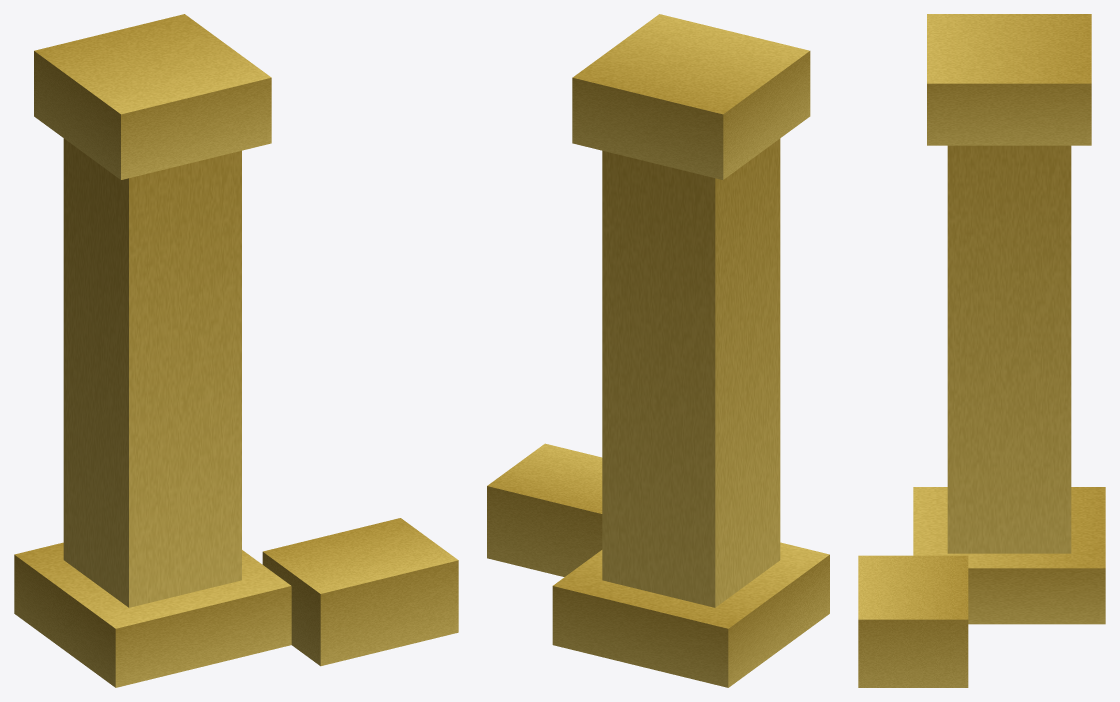
File: ruin_pillar.gltf
The picture shows the model from 3 angles, left to right: view 1: azimuth 30°, elevation 25°; view 2: azimuth 150°, elevation 25°; view 3: azimuth 270°, elevation 25°; orthographic projection. The views are drawn at different scales.
Visible parts, largest first — view 1: ruin_pillar; view 2: ruin_pillar; view 3: ruin_pillar.
Part boxes in pixels (bbox=[...]): ruin_pillar: bbox=[14, 14, 458, 687]; ruin_pillar: bbox=[487, 14, 829, 687]; ruin_pillar: bbox=[858, 14, 1105, 687].
Size of the model in its own units: 2.5 by 4.3 by 1.8.
Materials: 1 (1 with a texture image).
